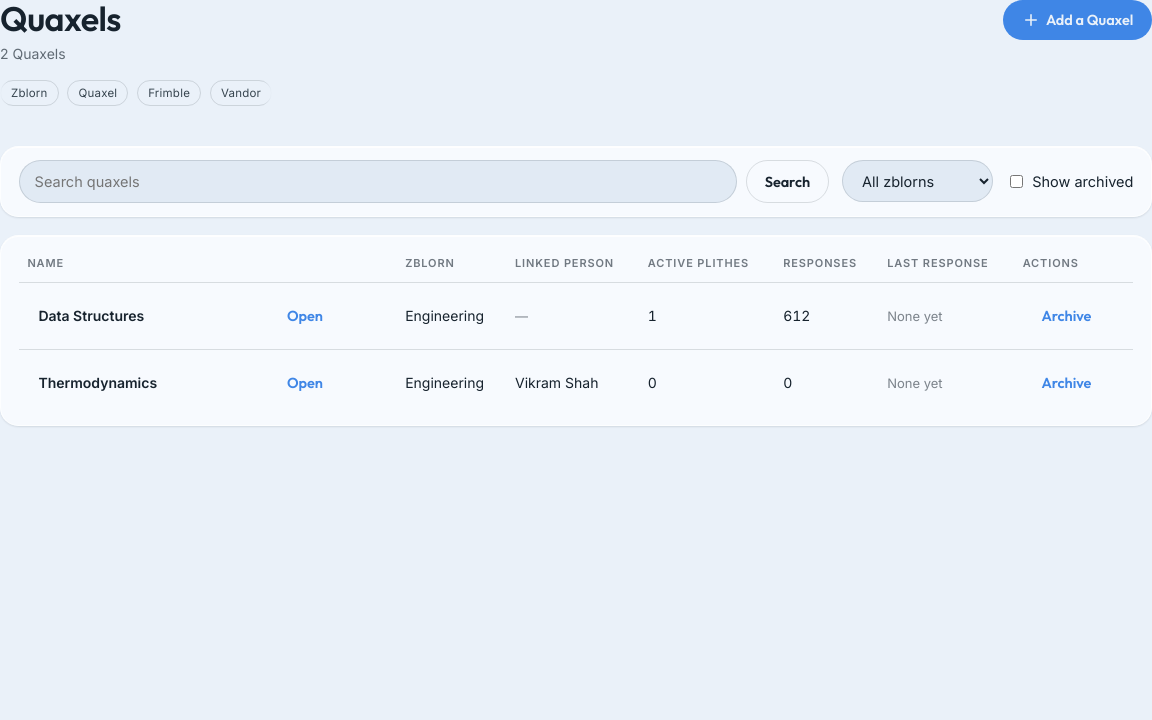
creating › is honest about what a link costs — 16 §5, which is the opposite of the obvious guess
This screenshot has width=1152, height=720.
Click the button "Add a Quaxel": [1078, 20] box [1003,0,1151,40]
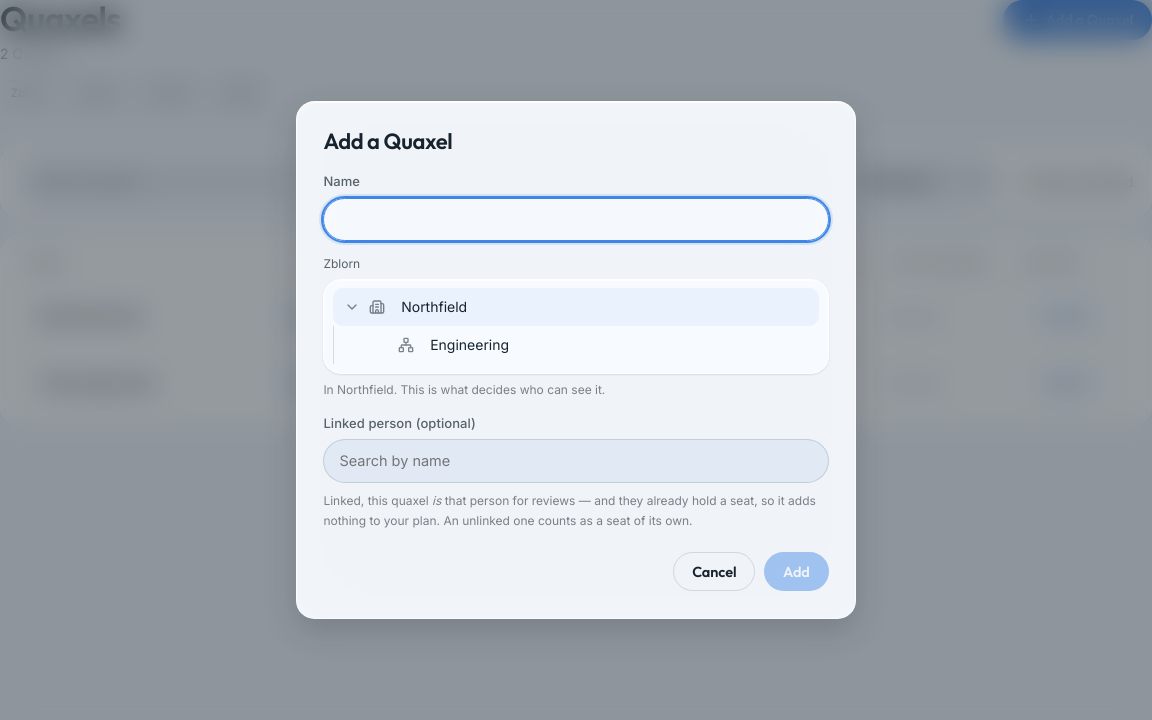
Now the dialog "Add a Quaxel" shows "they already hold a seat, so it adds nothing to your plan", box [323,493,816,528]
